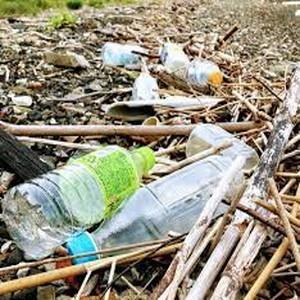Plastic: (74, 155, 249, 264), (4, 144, 154, 258)
